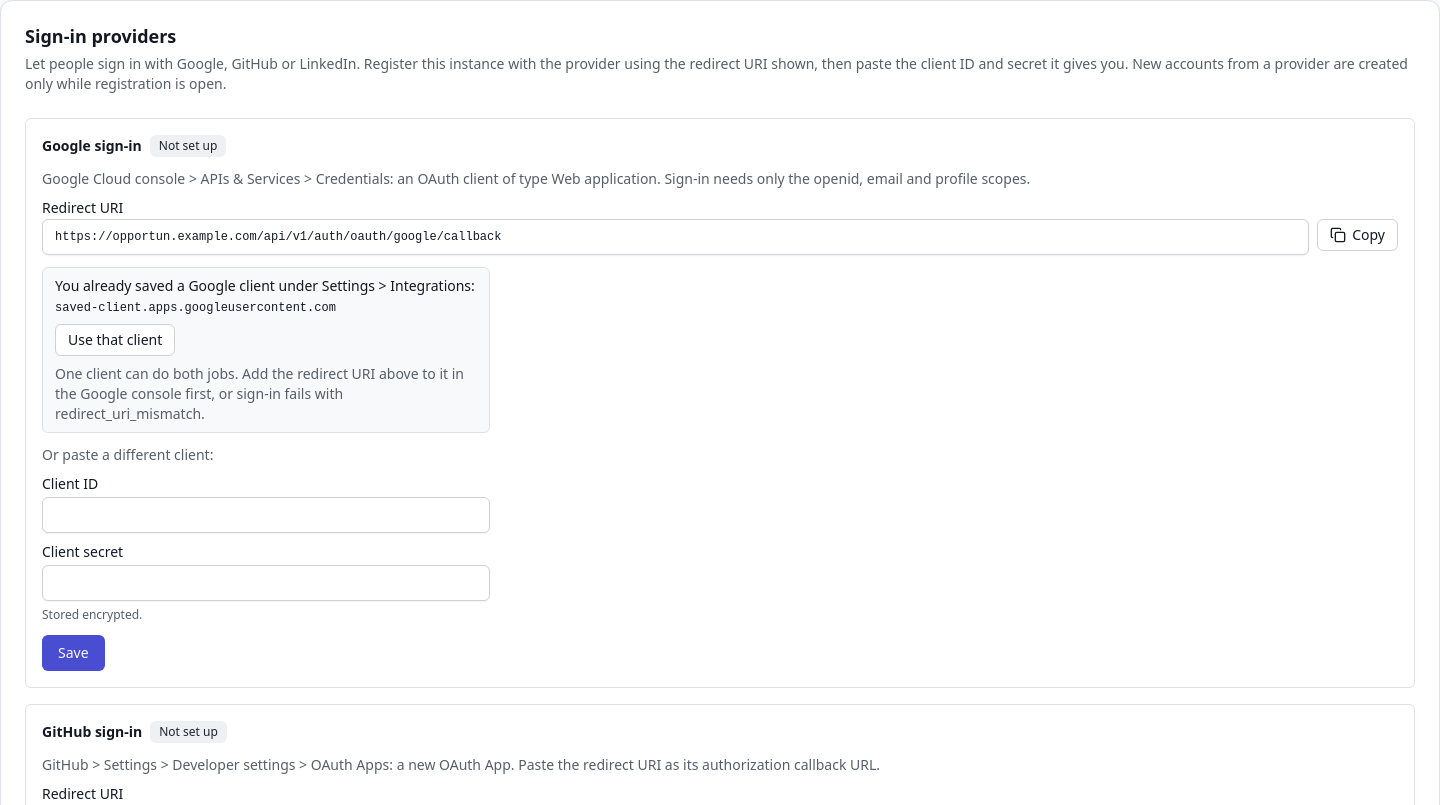
Test: OAuthProvidersCard › imports the Google client already saved under Integrations, with nothing retyped
Expected: the element "Google sign-in" shows "saved-client.apps.googleusercontent.com", [55,300,336,314]
Click the button "Use that client".
click(115, 340)  # box [55,324,175,356]
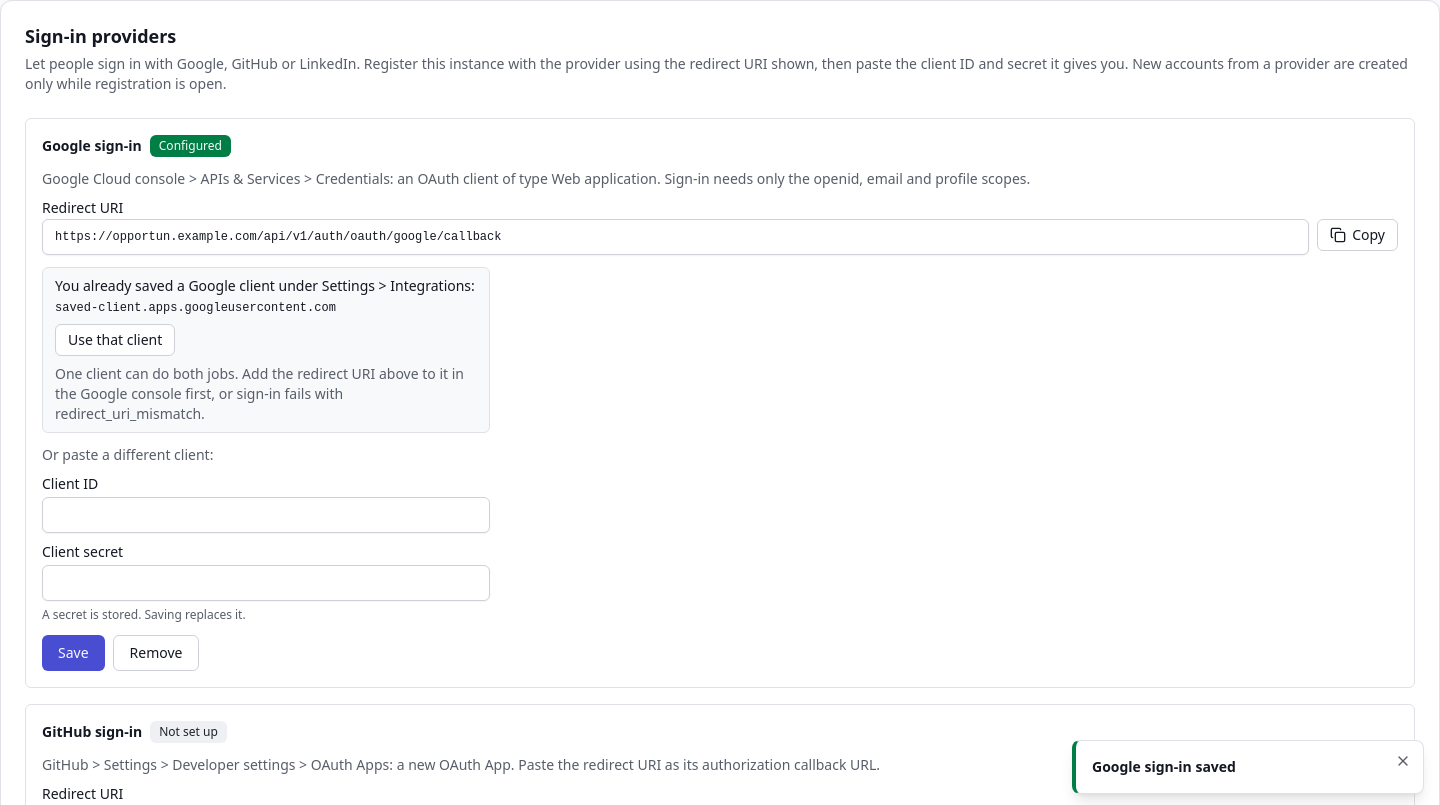
Expected: the text "Configured" is shown, [150,134,231,156]
